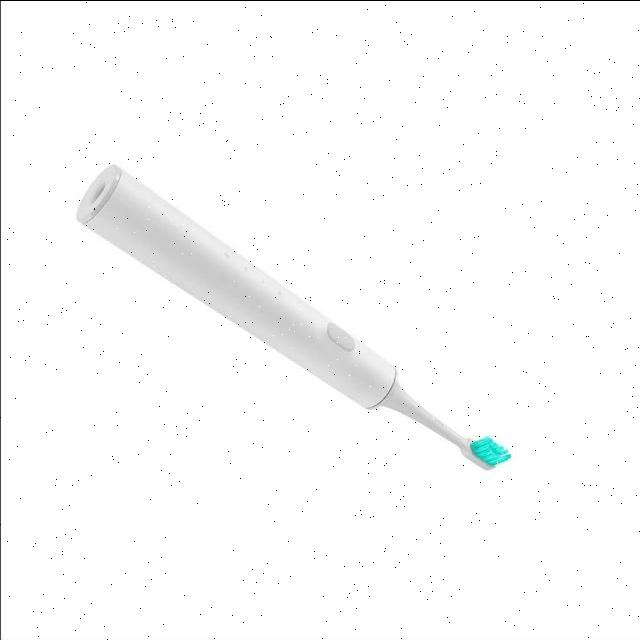toothbrush: (82, 120, 562, 566)
